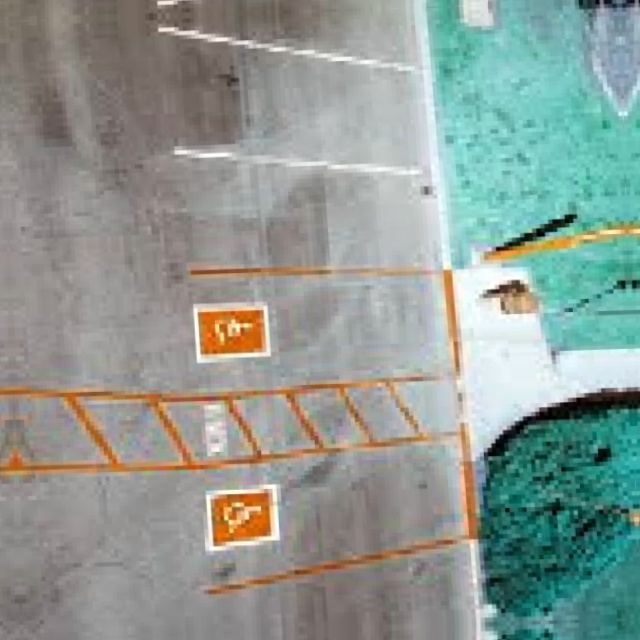ISA: (195, 306, 266, 353), (212, 491, 274, 537)
